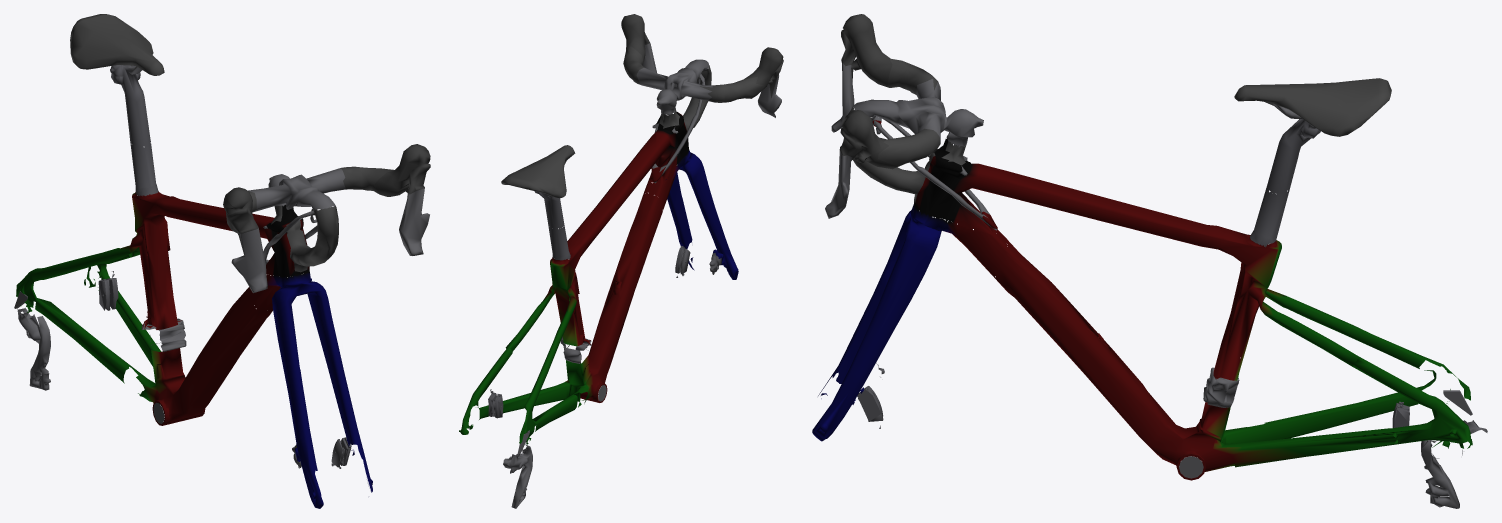
The model's file is roubaix44_lod2.glb.
3 renders of one model, left to right at view 1: azimuth 30°, elevation 25°; view 2: azimuth 150°, elevation 25°; view 3: azimuth 270°, elevation 25°, orthographic. The views are drawn at different scales.
Visible parts, largest first — view 1: frame, cockpit, fork, saddle, seatpost, etrier_arriere; view 2: frame, cockpit, fork, saddle, seatpost, etrier_arriere; view 3: frame, cockpit, fork, saddle, seatpost.
Boxes of the visible parts, box(x1,y1,x2,y2) form: frame: box(14, 191, 338, 425); cockpit: box(223, 144, 430, 292); fork: box(251, 271, 372, 508); saddle: box(70, 14, 164, 147); seatpost: box(130, 141, 158, 196); etrier_arriere: box(98, 271, 118, 310); frame: box(459, 65, 711, 508); cockpit: box(621, 14, 783, 117); fork: box(644, 149, 738, 279); saddle: box(501, 145, 575, 228); seatpost: box(548, 225, 570, 260); etrier_arriere: box(488, 389, 503, 418); frame: box(848, 106, 1487, 508); cockpit: box(825, 14, 983, 218); fork: box(812, 204, 1008, 441); saddle: box(1234, 78, 1391, 194); seatpost: box(1250, 188, 1289, 247).
Size of the model in its own units: 0.4137 by 0.7927 by 1.06.
